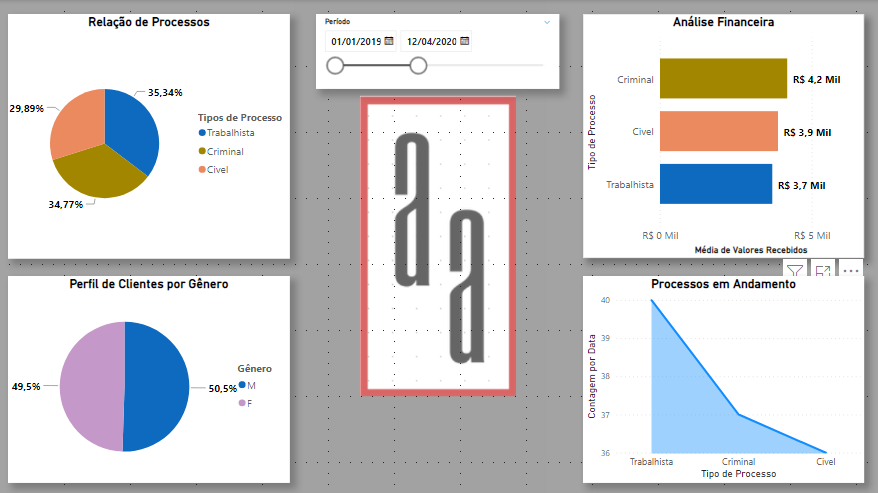

What the dashboard file says about the page in this screenshot:
{"tool":"powerbi","page":{"name":"Analise","canvas":[1280,720],"ordinal":1},"visuals":[{"type":"pieChart","title":"Relação de Processos","fields":{"Category":["public fato_processo.tipo_processo"],"Y":["CountNonNull(public fato_processo.tipo_processo)"]},"box":[15.1,20.2,409.9,356.1],"z":0},{"type":"barChart","title":"Análise Financeira","fields":{"Y":["Avg(public fato_processo.vl_recebido)"],"Category":["public fato_processo.tipo_processo"]},"box":[850.5,20.2,409.3,355.4],"z":1000},{"type":"pieChart","title":"Perfil de Clientes por Gênero","fields":{"Category":["public dim_cliente.gender"],"Y":["CountNonNull(public dim_cliente.gender)"]},"box":[15.1,401.5,409.9,300.7],"z":2000},{"type":"stackedAreaChart","title":"Processos em Andamento","fields":{"Category":["public fato_processo.tipo_processo"],"Y":["CountNonNull(public fato_processo.dt_fim)"]},"box":[850.5,400.8,409.3,301.5],"z":3000},{"type":"slicer","fields":{"Values":["public fato_processo.dt_inicio"]},"box":[463.2,20.2,353.7,109.5],"z":3001}]}

Visuals, with their boxes in screenshot pixels (x1, y1, x2, y2), scaled from the page's 1280x720 canvas onto the 878x493 screenshot:
"Relação de Processos" pieChart: detection(10, 14, 292, 258)
"Análise Financeira" barChart: detection(583, 14, 864, 257)
"Perfil de Clientes por Gênero" pieChart: detection(10, 275, 292, 481)
"Processos em Andamento" stackedAreaChart: detection(583, 274, 864, 481)
slicer - public fato_processo.dt_inicio: detection(318, 14, 560, 89)
